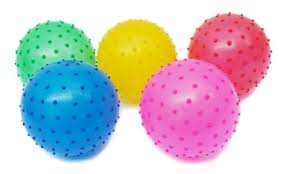ball: (16, 58, 130, 163), (135, 57, 242, 163), (187, 11, 282, 104), (96, 16, 179, 108), (7, 20, 97, 94)
